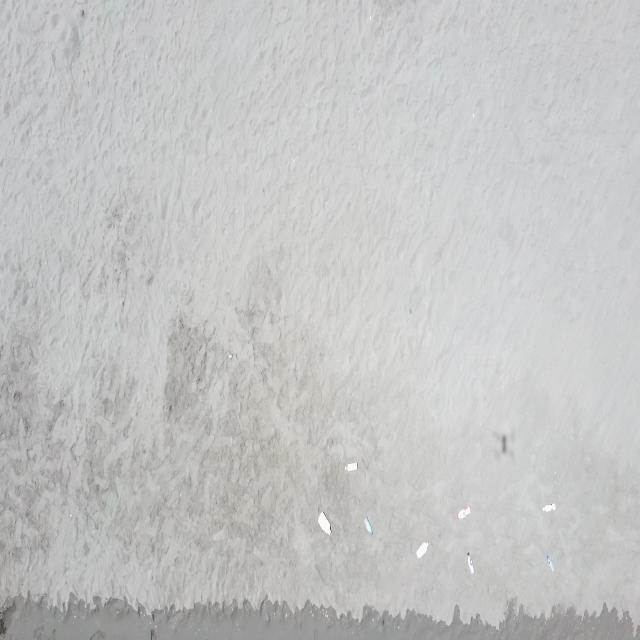Garbage: (318, 512, 329, 533), (415, 542, 427, 557), (457, 507, 470, 519), (364, 516, 372, 533), (467, 552, 473, 572), (344, 462, 355, 471), (546, 555, 552, 571), (543, 503, 555, 511), (227, 352, 232, 357)
